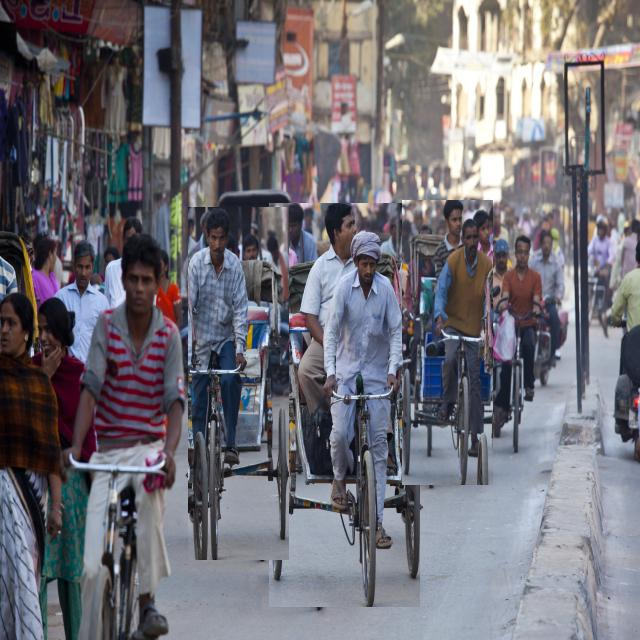bicycle: (269, 204, 420, 607), (188, 208, 289, 560), (402, 200, 492, 485)
